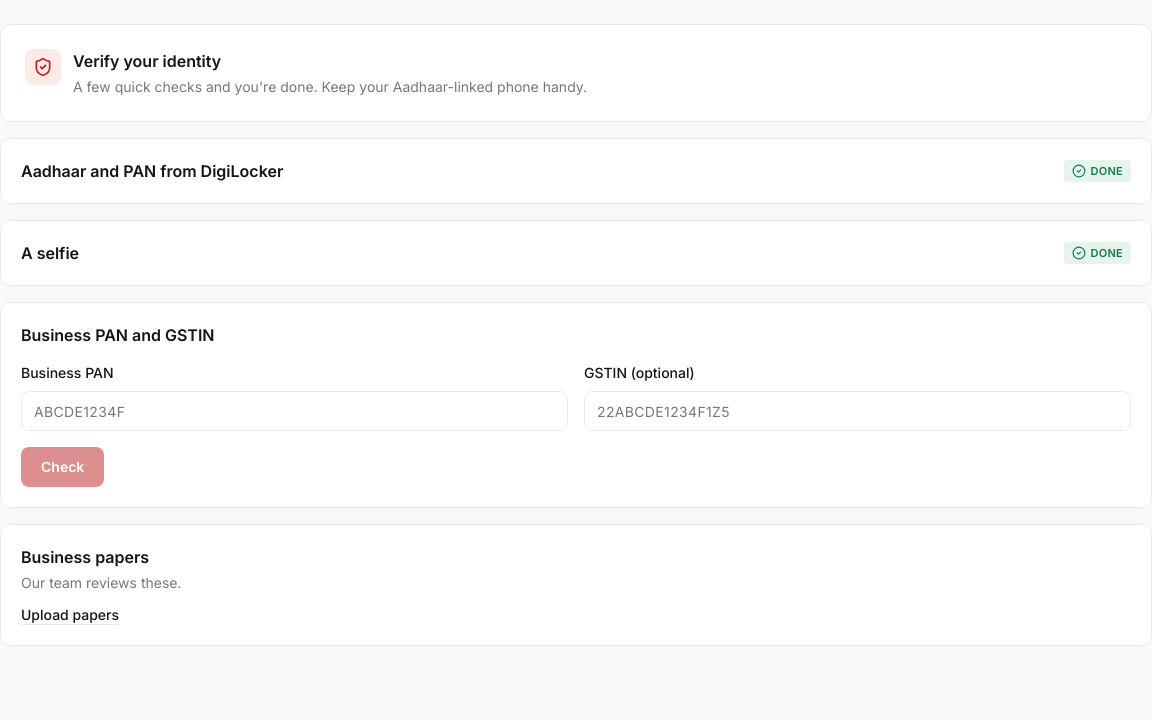
the business › labels the GSTIN optional when its step is, and sends the PAN alone
The width and height of the screenshot is (1152, 720).
Expected: the heading "Verify your identity" is shown, x1=73 y1=51 x2=221 y2=71
Expected: the field labelled "GSTIN (optional)" is shown, x1=584 y1=391 x2=1131 y2=431
Type "abcde1234f" into the field labelled "Business PAN" at x=294, y=411, box x1=21 y1=391 x2=568 y2=431
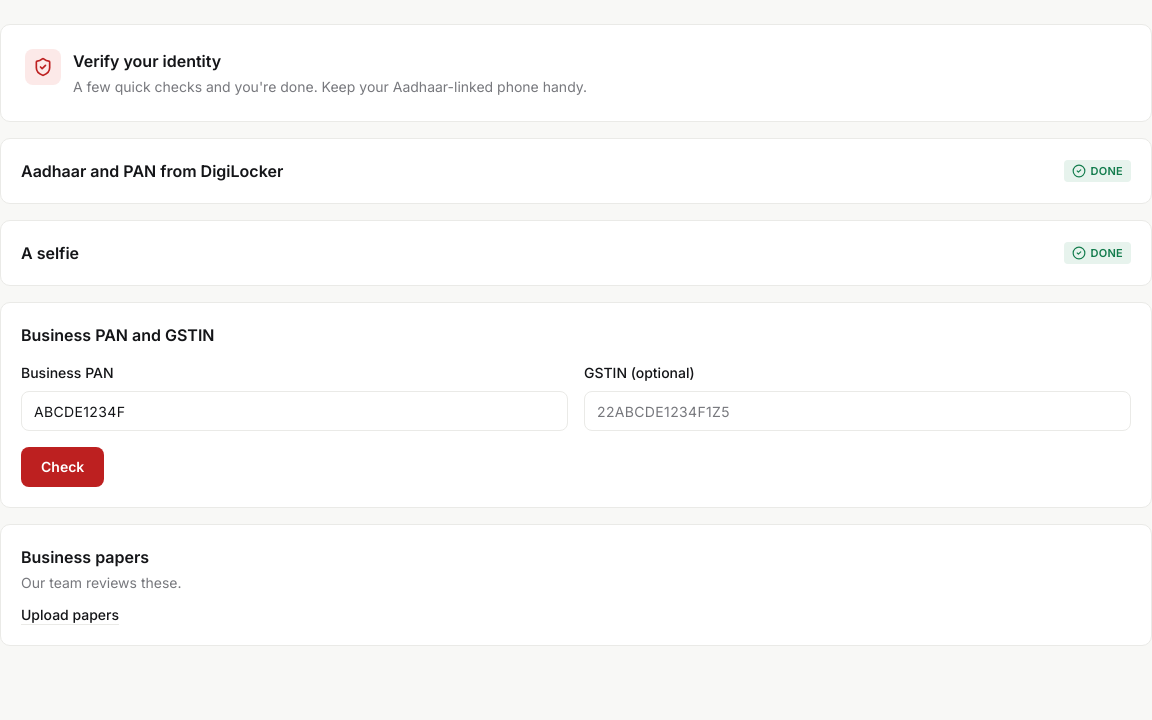
Click the button "Check" at x=63, y=467, box x1=21 y1=447 x2=104 y2=487
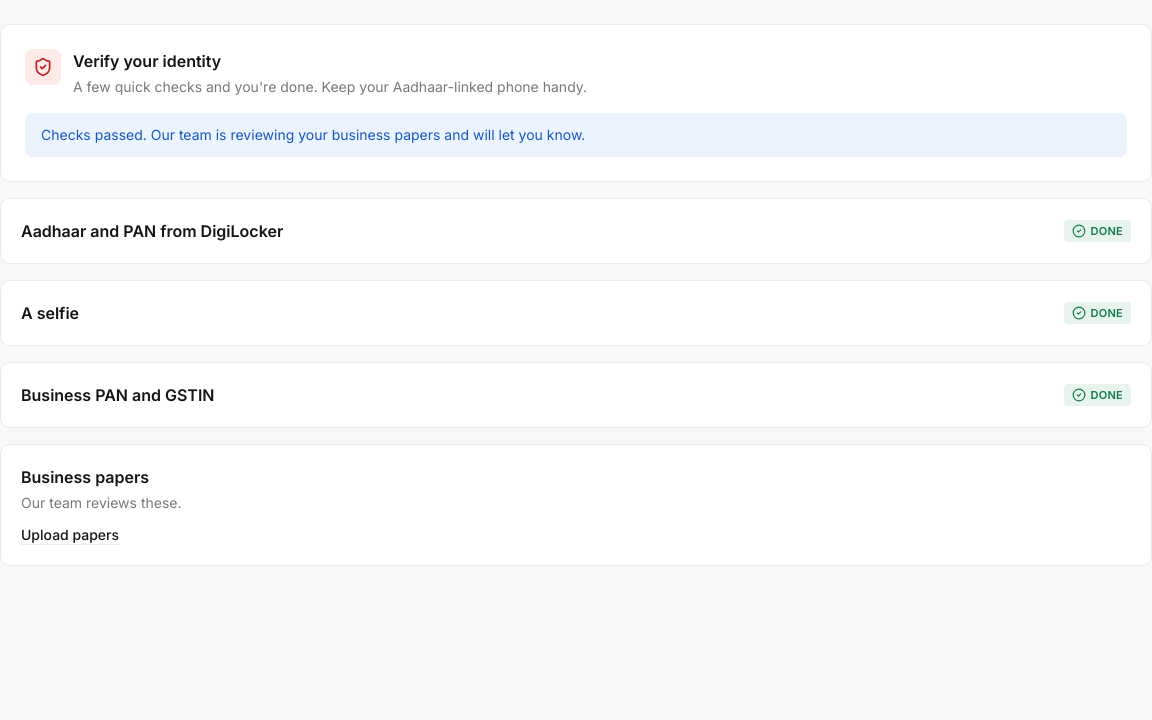
Now the text "Checks passed. Our team is reviewing your business papers and will let you know." is shown, box x1=25 y1=113 x2=1127 y2=157
